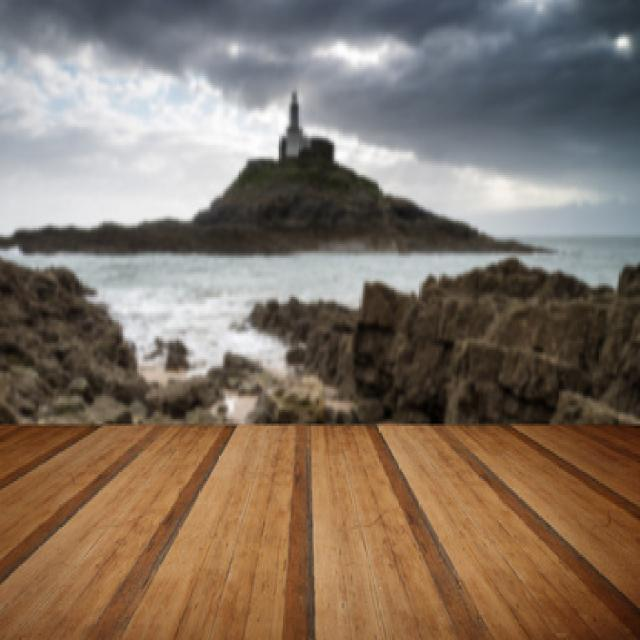island: (24, 80, 543, 264)
